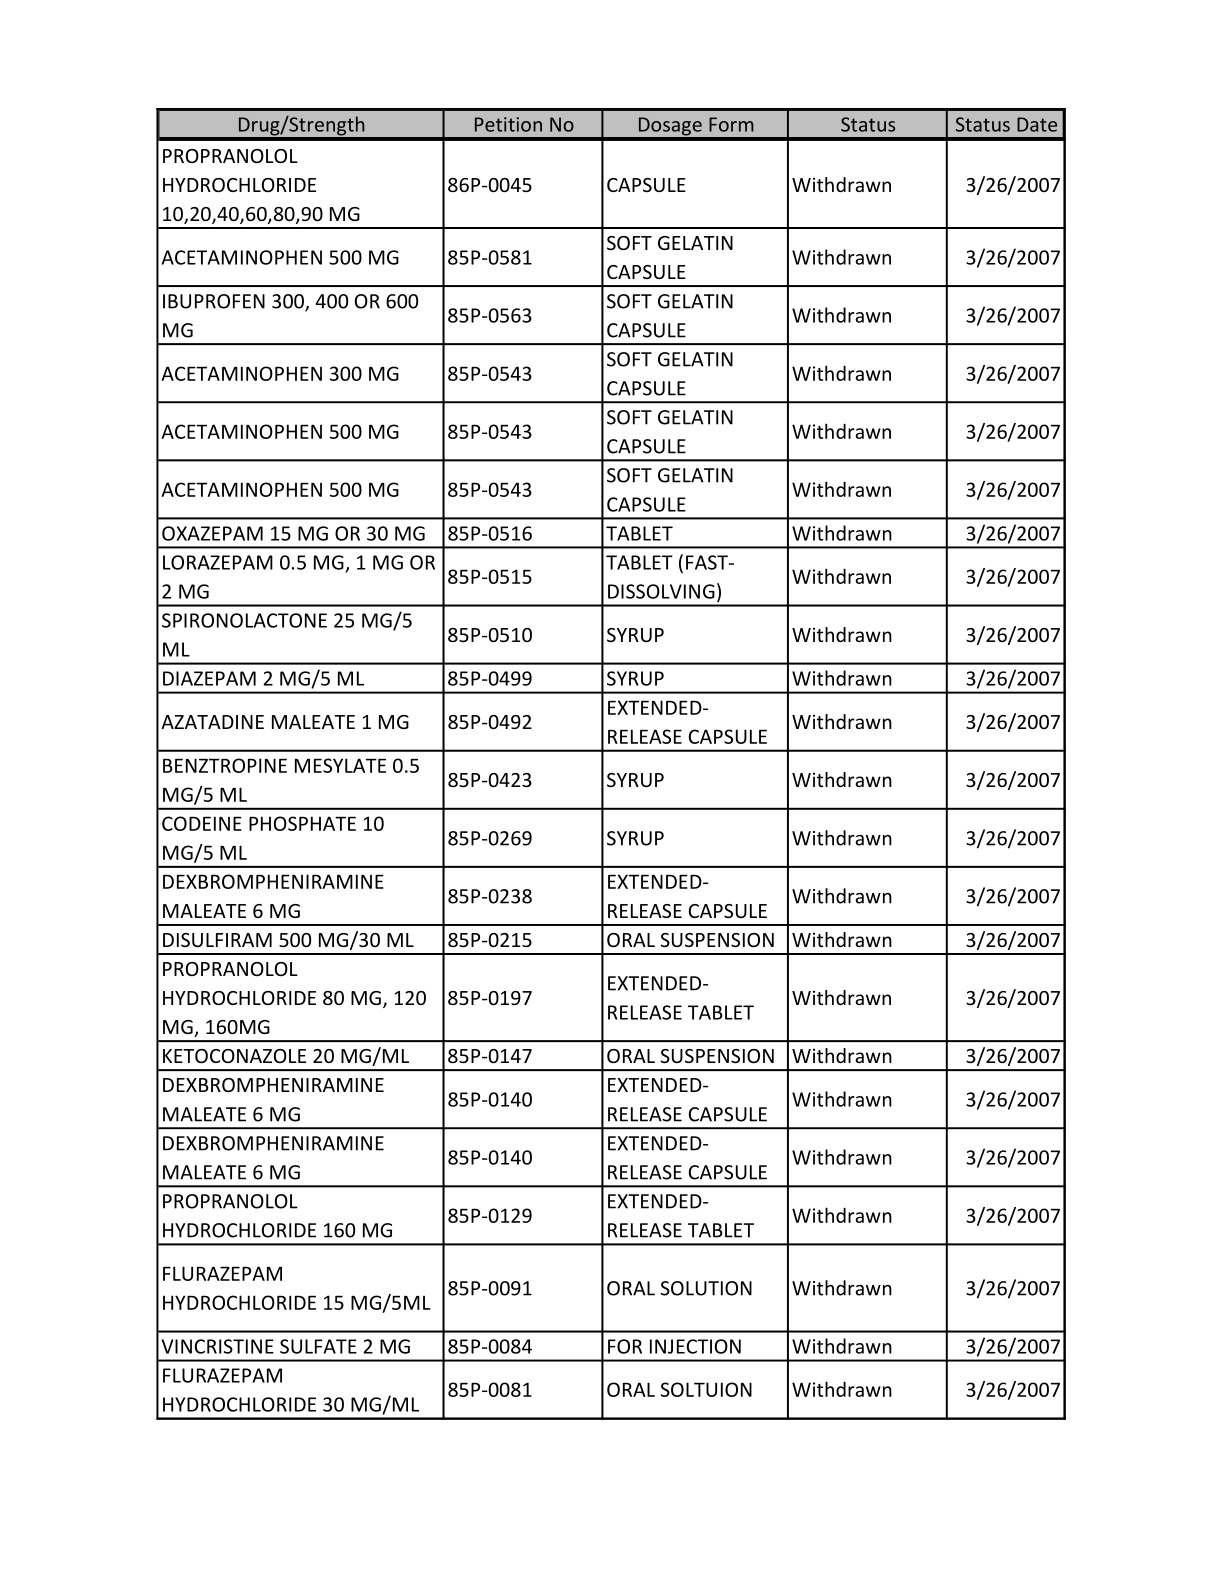full_lined: (154, 107, 1066, 1421)
